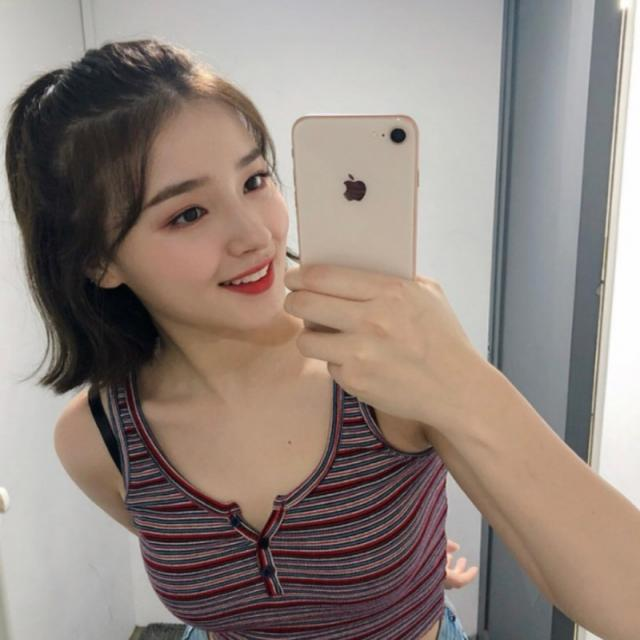phone: (290, 114, 420, 352)
